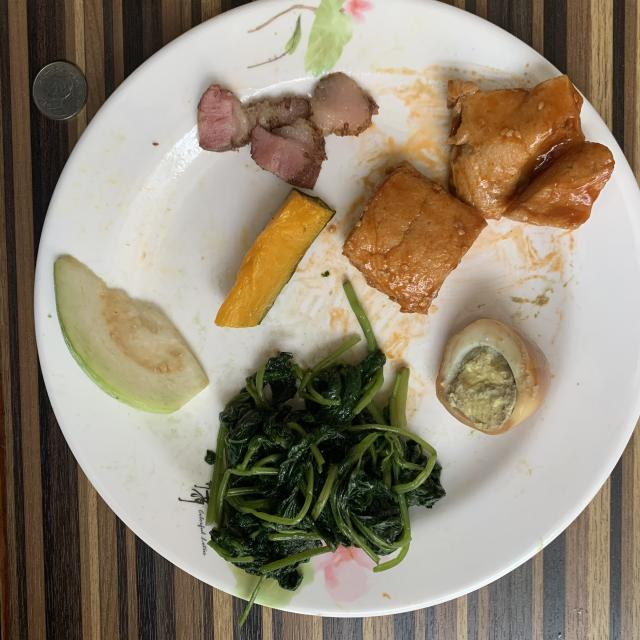coin: (32, 61, 86, 120)
creamy tofu: (344, 75, 614, 314)
grilled pork: (198, 72, 376, 189)
guava -sliced-: (54, 256, 209, 414)
pumpkin: (215, 189, 335, 328)
soy egg: (436, 319, 550, 435)
sweet potato leaves: (206, 281, 445, 625)
